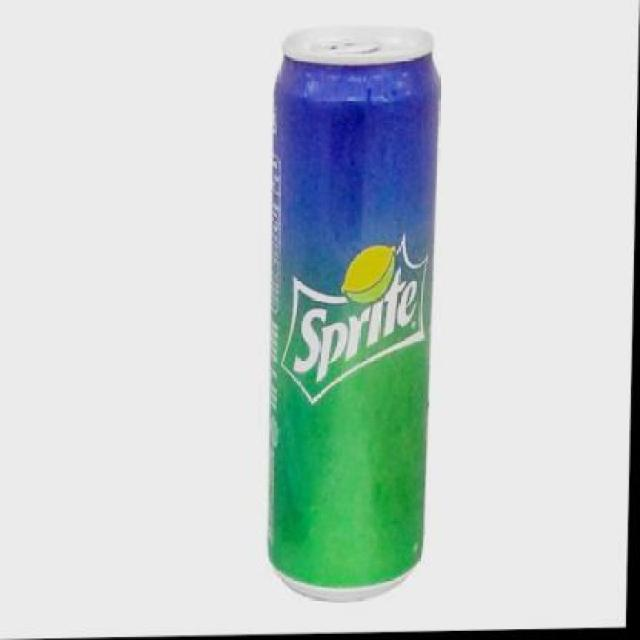Metal: (267, 14, 440, 610)
